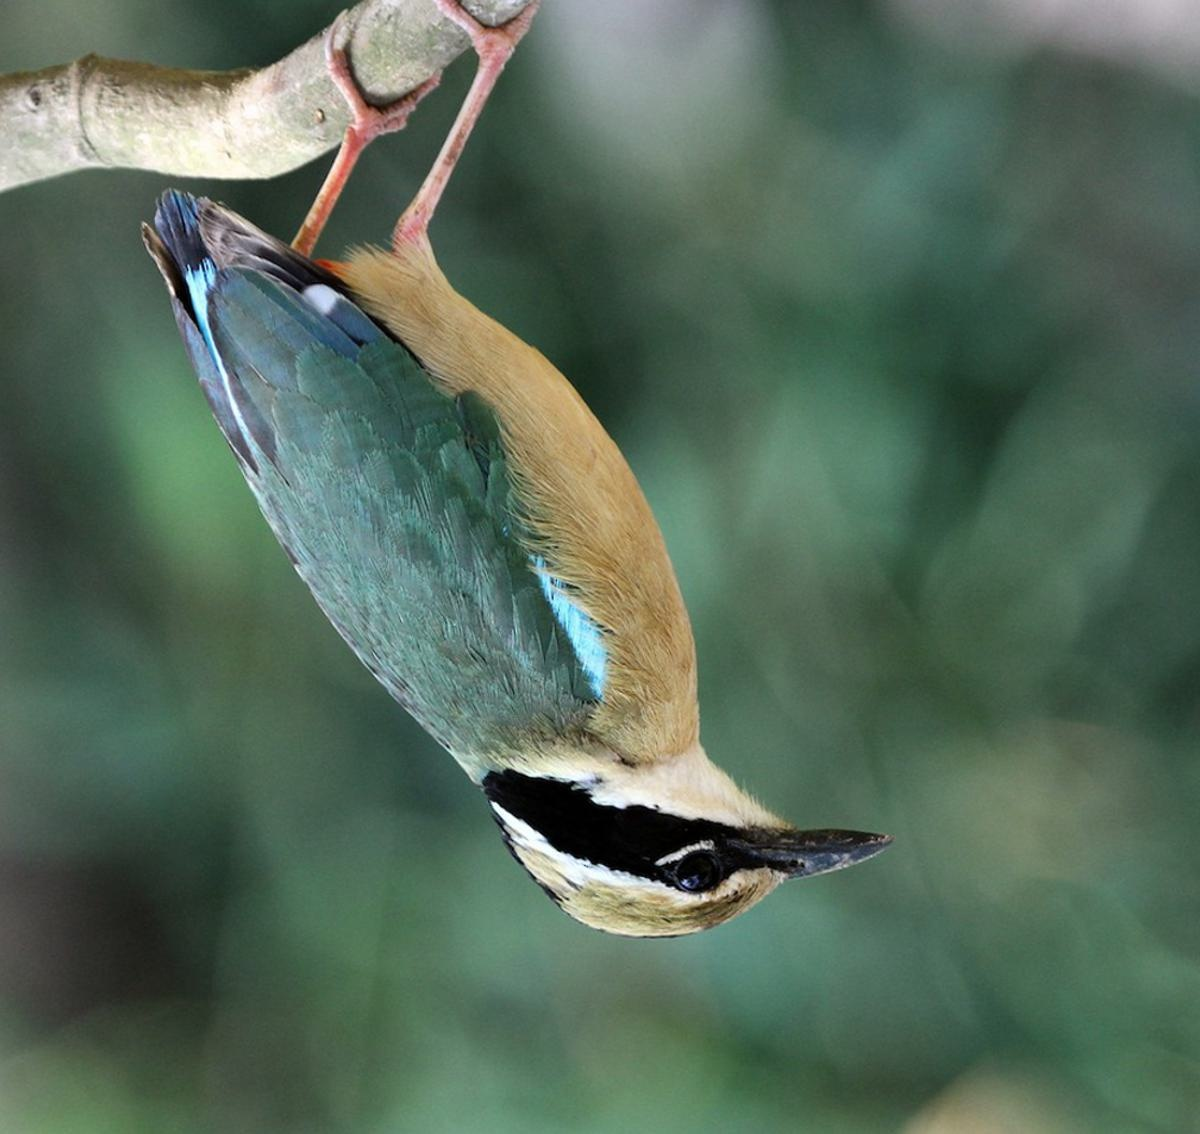pitta: (92, 59, 897, 955)
